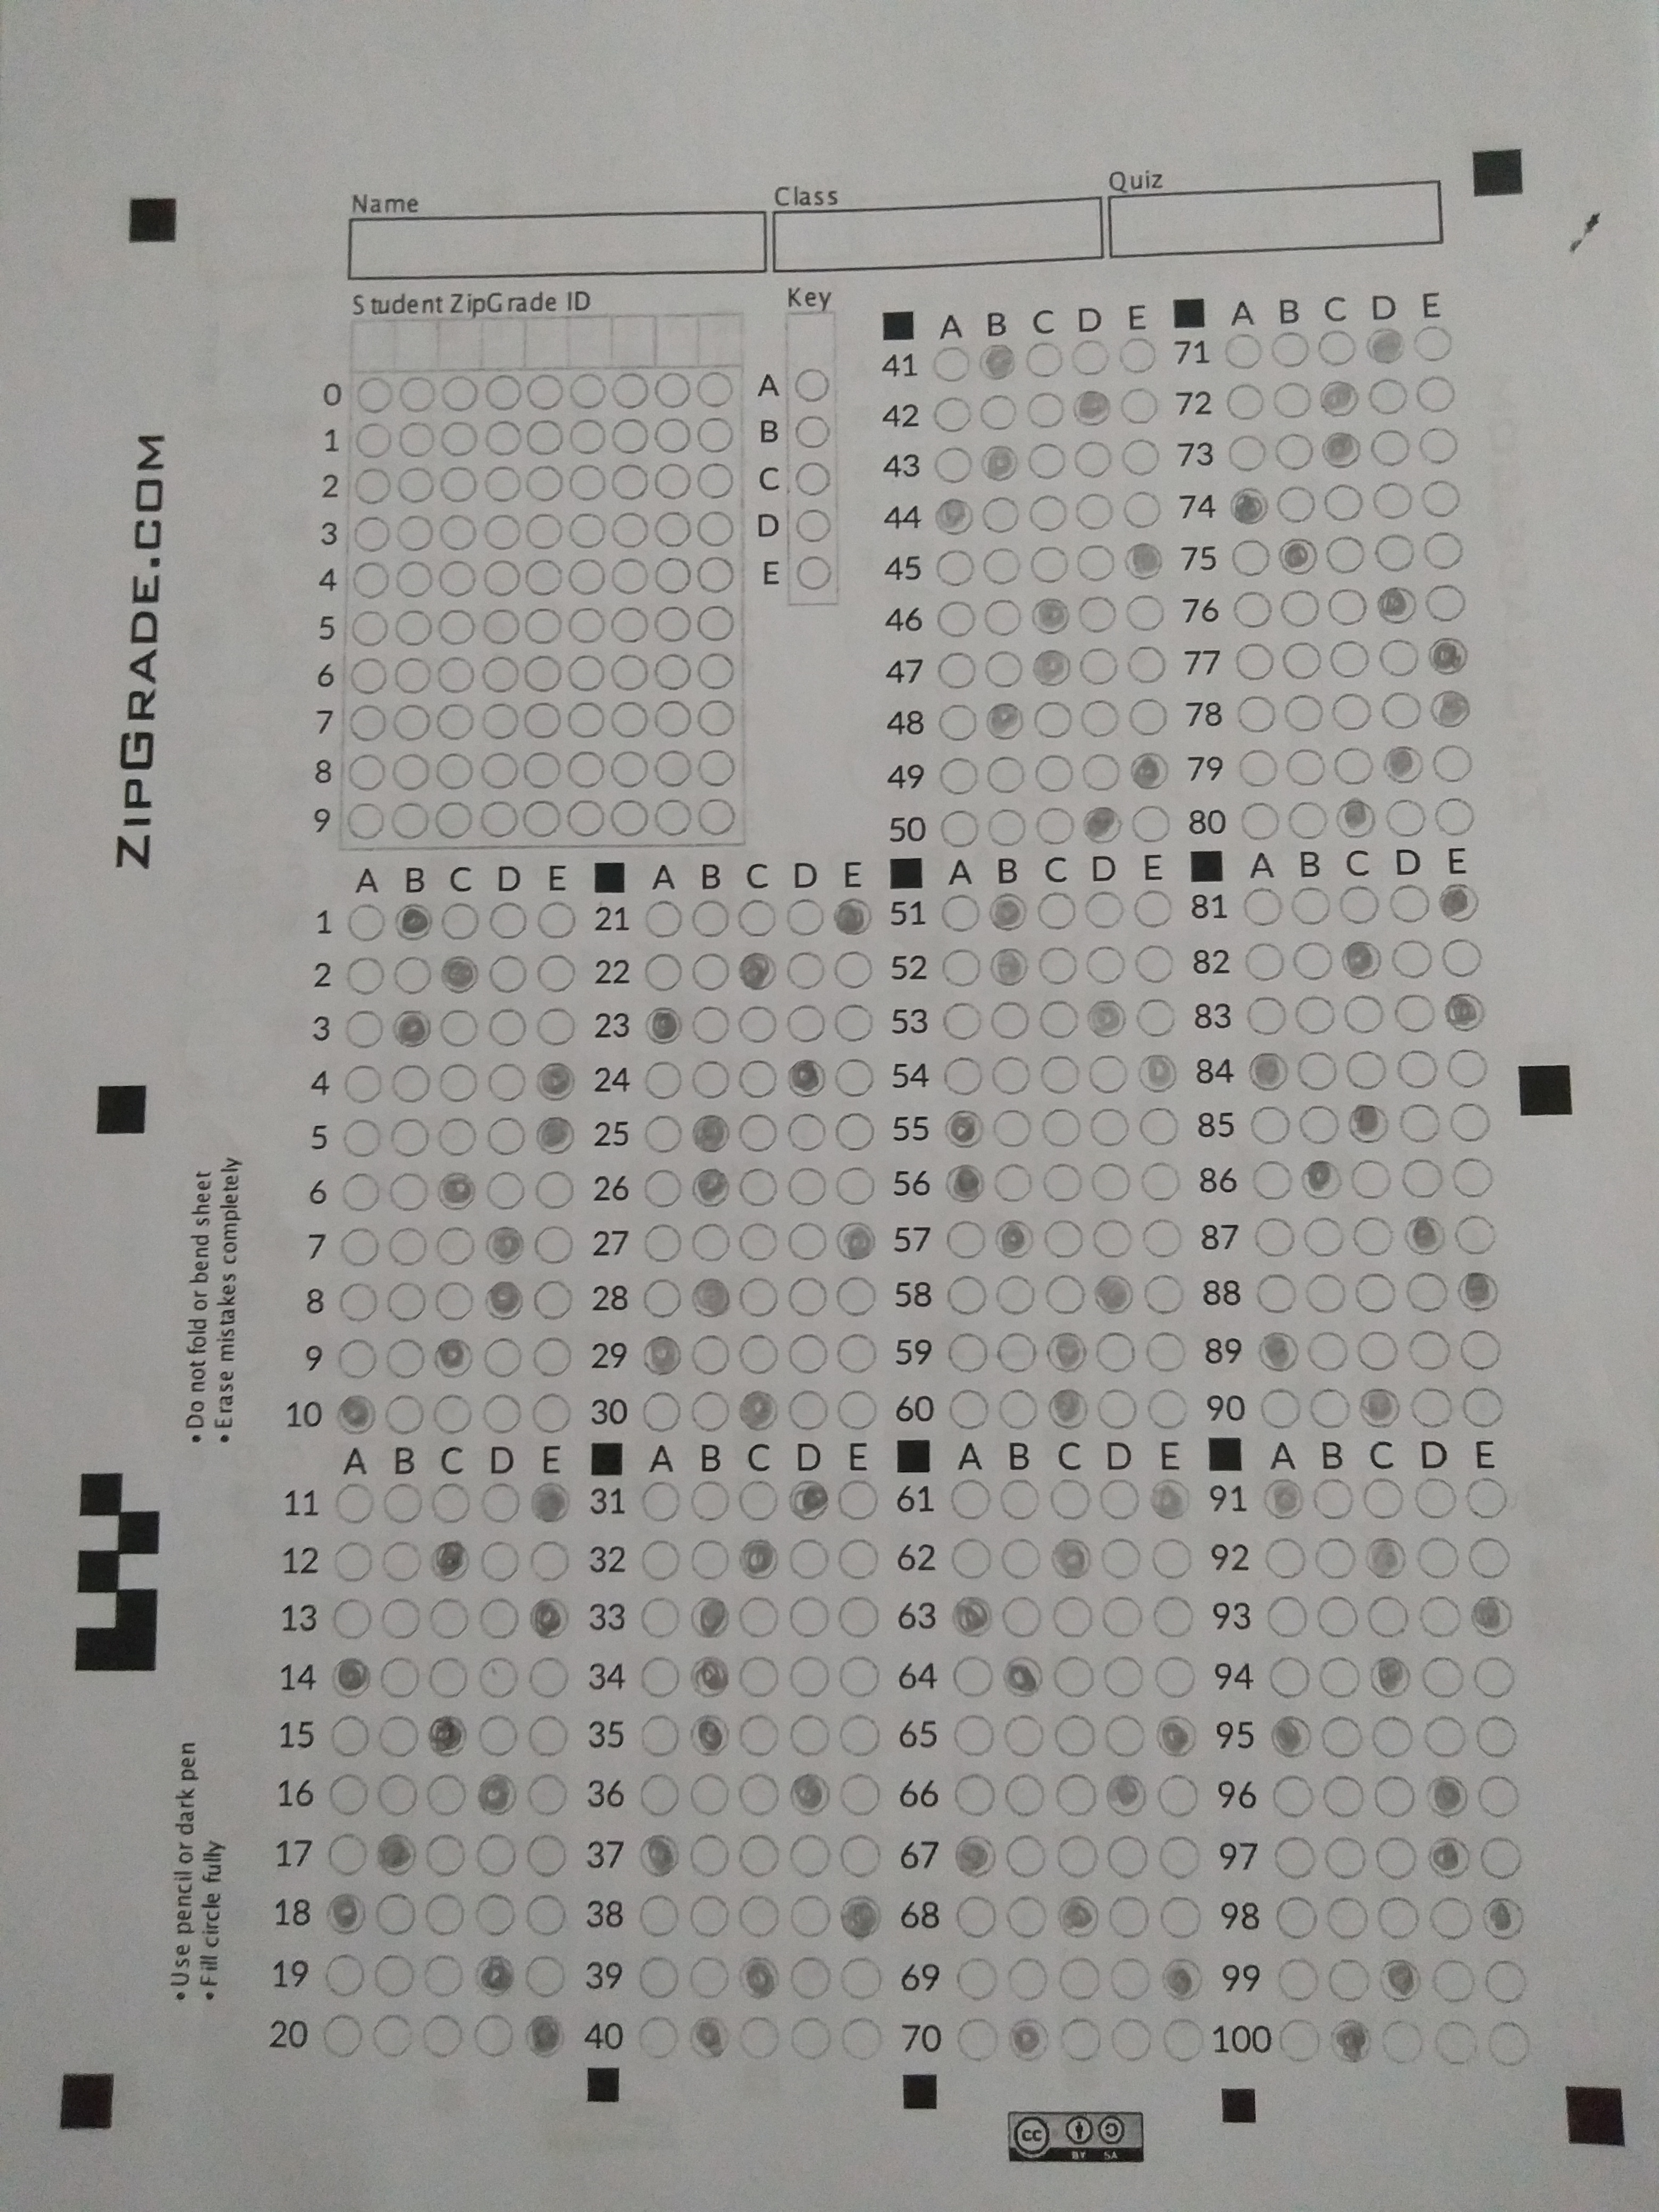not-c: (1471, 1829, 1532, 1886), (1269, 1825, 1323, 1886), (829, 1270, 885, 1324), (835, 2013, 889, 2069), (1459, 1381, 1511, 1439), (1415, 1585, 1467, 1642), (1398, 1264, 1452, 1318), (1093, 1527, 1147, 1581), (1319, 1831, 1373, 1885), (1072, 639, 1127, 691), (1284, 885, 1337, 939), (1338, 1043, 1391, 1097), (1450, 1204, 1502, 1258), (1300, 1266, 1352, 1320), (786, 1595, 838, 1649), (631, 1653, 685, 1705), (633, 1770, 687, 1822), (833, 1834, 887, 1886), (1270, 2015, 1324, 2067), (634, 1710, 690, 1761), (835, 1771, 890, 1822), (1154, 1890, 1209, 1940), (1464, 1533, 1520, 1583), (1359, 1470, 1408, 1527), (779, 948, 831, 1000), (1405, 1325, 1457, 1378), (375, 1475, 427, 1527), (950, 2013, 1002, 2066), (1255, 1534, 1307, 1587), (1432, 2015, 1485, 2067), (1429, 735, 1480, 789), (1438, 932, 1488, 986), (1445, 1153, 1499, 1204), (474, 1592, 525, 1646), (836, 1712, 887, 1766), (1474, 1770, 1528, 1820), (1373, 1831, 1424, 1885), (1267, 1892, 1321, 1942), (1279, 685, 1328, 740), (1371, 686, 1427, 735), (838, 1947, 887, 2003), (1471, 1653, 1520, 1709), (319, 2008, 368, 2064), (1136, 1268, 1188, 1318), (1094, 1385, 1145, 1437), (1351, 1271, 1403, 1322), (469, 2012, 519, 2064), (833, 1474, 885, 1524), (784, 1832, 836, 1883), (631, 1886, 681, 1939), (1155, 1770, 1206, 1822), (1002, 1832, 1054, 1883), (1419, 1651, 1469, 1703), (418, 2013, 469, 2066), (634, 1217, 688, 1266), (1134, 1101, 1183, 1155), (525, 1714, 573, 1768), (369, 1771, 423, 1820), (366, 2012, 415, 2066), (788, 2012, 836, 2066), (1051, 1766, 1100, 1820), (1054, 1829, 1103, 1883), (1460, 1470, 1514, 1519), (1488, 2017, 1537, 2071), (1457, 1320, 1504, 1376), (477, 1470, 525, 1526), (1058, 2012, 1103, 2069), (526, 1390, 577, 1440), (781, 1108, 831, 1158), (1086, 1157, 1136, 1207), (939, 1324, 990, 1374), (1234, 881, 1284, 932), (1392, 989, 1443, 1040), (526, 1534, 577, 1585), (732, 2010, 782, 2060), (999, 1952, 1049, 2003), (1429, 1958, 1480, 2008), (1481, 1956, 1532, 2006), (425, 1390, 474, 1442), (988, 1331, 1037, 1383), (427, 1588, 476, 1641), (523, 1890, 572, 1942), (685, 1892, 737, 1940), (948, 1707, 997, 1759), (1002, 1886, 1051, 1939), (1112, 385, 1166, 432), (1072, 538, 1119, 592), (939, 1216, 993, 1263), (1239, 1157, 1293, 1204), (472, 1827, 519, 1881), (1324, 1954, 1371, 2008), (1161, 2010, 1206, 2066), (1323, 1766, 1368, 1822), (831, 1054, 882, 1103), (784, 1329, 833, 1379), (929, 543, 979, 592), (1040, 1273, 1089, 1324), (1387, 939, 1438, 988), (1396, 1151, 1445, 1202), (521, 1829, 572, 1878), (1000, 1709, 1049, 1759), (1474, 1714, 1523, 1764), (1265, 1770, 1314, 1820), (831, 944, 878, 996), (1328, 688, 1375, 740), (1317, 1714, 1370, 1761), (329, 1339, 383, 1385), (1140, 1157, 1185, 1211), (1338, 881, 1384, 935), (521, 1653, 575, 1698), (690, 1831, 735, 1885), (735, 1832, 781, 1886), (789, 1893, 835, 1947), (1147, 1594, 1201, 1639), (378, 1588, 422, 1644), (606, 369, 655, 418), (434, 1059, 483, 1108), (1023, 540, 1072, 589), (418, 1890, 467, 1939), (634, 1534, 683, 1583), (732, 1592, 781, 1641), (1380, 2017, 1429, 2066), (476, 1390, 526, 1437), (1124, 942, 1175, 989), (1345, 1212, 1396, 1259), (788, 1536, 835, 1587), (786, 1712, 833, 1763), (634, 1952, 681, 2003), (1371, 1773, 1419, 1824), (1236, 941, 1288, 986), (1288, 935, 1333, 988), (1291, 989, 1337, 1042), (329, 1475, 375, 1527), (375, 1712, 420, 1764), (1310, 1474, 1356, 1526), (1413, 1474, 1459, 1526), (1312, 1531, 1358, 1583), (1371, 1712, 1417, 1764), (1417, 1716, 1469, 1761), (631, 1277, 685, 1320), (1093, 1325, 1136, 1379), (1445, 1043, 1488, 1097), (1445, 1101, 1499, 1144), (476, 1710, 519, 1764), (634, 1597, 688, 1641), (329, 1170, 385, 1212), (1239, 1104, 1295, 1146), (535, 897, 582, 946), (331, 1280, 380, 1327), (638, 895, 687, 942), (988, 1052, 1035, 1101), (943, 1273, 990, 1322), (1396, 1103, 1443, 1151), (1249, 1214, 1298, 1261), (1249, 1270, 1297, 1318), (416, 1952, 465, 2000), (638, 1479, 687, 1526), (688, 1534, 735, 1583), (1148, 1534, 1197, 1581), (1047, 1655, 1096, 1702), (950, 1771, 999, 1818), (1058, 1954, 1107, 2001), (1107, 1954, 1154, 2003), (1310, 1590, 1358, 1639), (1363, 1592, 1410, 1641), (1429, 1895, 1478, 1942), (1274, 1954, 1321, 2003), (432, 900, 483, 946), (532, 1223, 577, 1273), (530, 1277, 575, 1327), (782, 1270, 828, 1320), (833, 1332, 884, 1378), (932, 700, 983, 745), (1328, 636, 1373, 686), (1398, 1047, 1443, 1097), (329, 1540, 380, 1585), (471, 1892, 516, 1942), (835, 1655, 885, 1700), (1157, 1834, 1208, 1879), (328, 1770, 373, 1820), (383, 1278, 427, 1331), (1086, 1216, 1138, 1259), (946, 1653, 999, 1696), (1112, 2015, 1155, 2067), (739, 1472, 781, 1526), (1378, 798, 1434, 838), (1310, 1381, 1351, 1437), (340, 954, 387, 1001), (484, 953, 532, 1000), (1021, 334, 1068, 381), (1075, 491, 1122, 538), (993, 1275, 1040, 1322), (1241, 993, 1288, 1040), (322, 1951, 369, 1998), (737, 1893, 784, 1940), (1047, 1475, 1094, 1522), (1047, 1592, 1094, 1639), (1103, 1712, 1150, 1759), (1053, 1712, 1100, 1759), (685, 1331, 734, 1376), (1126, 587, 1171, 636), (1425, 580, 1474, 625), (1131, 887, 1176, 935), (1338, 991, 1387, 1036), (328, 1714, 373, 1763), (321, 1832, 369, 1878), (836, 1536, 882, 1585), (737, 1771, 782, 1820), (997, 1534, 1046, 1580), (1105, 1892, 1150, 1940), (957, 1952, 1002, 2001), (1323, 1892, 1371, 1937), (695, 507, 739, 557), (535, 1163, 579, 1214), (430, 1226, 481, 1270), (1269, 486, 1319, 529), (1225, 536, 1276, 580), (1229, 693, 1279, 737), (938, 1000, 988, 1043), (988, 1163, 1039, 1207), (1290, 1047, 1340, 1090), (1290, 1103, 1340, 1146), (523, 1773, 573, 1817), (688, 1477, 732, 1527), (789, 1655, 833, 1705), (945, 1536, 995, 1580), (1101, 1651, 1145, 1702), (1373, 1897, 1424, 1940), (690, 1388, 732, 1440), (1082, 1106, 1134, 1148), (1108, 1834, 1150, 1886), (476, 603, 521, 650), (692, 599, 739, 644), (342, 1008, 387, 1055), (342, 1062, 387, 1109), (481, 1113, 526, 1160), (833, 1163, 878, 1211), (735, 1275, 782, 1320), (786, 1388, 831, 1435), (1115, 437, 1161, 484), (983, 752, 1028, 799), (1370, 425, 1417, 470), (1319, 484, 1366, 529), (936, 946, 983, 991), (1077, 941, 1122, 988), (1140, 1217, 1185, 1264), (476, 1655, 521, 1702), (371, 1952, 416, 2000), (737, 1712, 784, 1757), (1098, 1479, 1143, 1526), (1415, 1534, 1462, 1580), (1317, 1655, 1363, 1702), (519, 371, 568, 415), (389, 1111, 432, 1160), (737, 1327, 781, 1376), (638, 1390, 681, 1439), (835, 1390, 884, 1433), (925, 390, 974, 434), (936, 892, 985, 935), (1255, 1386, 1303, 1430), (331, 1594, 375, 1642), (376, 1653, 420, 1702), (789, 1956, 833, 2005), (638, 2015, 681, 2064), (999, 1592, 1042, 1641), (1004, 1770, 1047, 1818), (336, 902, 387, 944), (390, 1059, 432, 1109), (690, 894, 732, 944), (732, 897, 782, 939), (784, 1162, 826, 1212), (1272, 376, 1314, 427), (1328, 745, 1378, 787), (481, 648, 521, 700), (739, 1216, 779, 1268), (648, 794, 694, 840), (385, 1338, 430, 1383), (1415, 371, 1460, 416), (1424, 528, 1469, 573), (1232, 637, 1277, 683), (1283, 637, 1328, 683), (1434, 794, 1480, 840), (1033, 888, 1079, 934), (1040, 1217, 1086, 1263), (1300, 1216, 1345, 1261), (1356, 1325, 1401, 1371), (375, 1892, 420, 1937), (688, 1771, 734, 1817), (648, 462, 695, 505), (340, 751, 387, 794), (687, 949, 734, 993), (835, 1108, 878, 1155), (1117, 334, 1161, 381), (1026, 437, 1073, 481), (936, 650, 983, 693), (1030, 698, 1077, 742), (981, 806, 1028, 850), (1035, 944, 1079, 991), (936, 1052, 983, 1096), (1345, 1158, 1392, 1202), (1305, 1327, 1352, 1371), (526, 1956, 570, 2003), (838, 1592, 882, 1639), (687, 1954, 730, 2001), (537, 953, 579, 1001), (389, 1167, 430, 1216), (638, 1167, 687, 1209), (1363, 376, 1412, 418), (1133, 998, 1182, 1040), (1145, 1327, 1187, 1376), (376, 1393, 427, 1433), (786, 1217, 826, 1268), (1220, 434, 1270, 474), (1263, 1658, 1314, 1698), (436, 416, 479, 462), (434, 606, 477, 651), (565, 648, 610, 691), (648, 651, 694, 695), (519, 794, 565, 838), (484, 1059, 528, 1104), (532, 1334, 575, 1379), (782, 894, 828, 937), (1070, 336, 1115, 380), (1023, 493, 1068, 536), (1033, 752, 1079, 796), (1131, 805, 1176, 848), (1270, 430, 1316, 474), (1419, 477, 1464, 521), (1279, 585, 1323, 631), (1087, 1052, 1133, 1096), (943, 1388, 988, 1432), (429, 1480, 472, 1526), (423, 1773, 467, 1818), (423, 1831, 469, 1874), (1101, 1592, 1147, 1635), (1150, 1656, 1195, 1700), (1263, 1595, 1309, 1639), (525, 507, 566, 554), (437, 651, 479, 698), (389, 798, 430, 845), (336, 1115, 383, 1157), (688, 1003, 735, 1045), (1316, 324, 1358, 371), (1415, 427, 1462, 469), (1236, 745, 1283, 787), (950, 1479, 992, 1526), (955, 1892, 997, 1939), (434, 794, 474, 843), (1237, 801, 1286, 841), (608, 604, 652, 648), (432, 749, 476, 792), (934, 597, 978, 641), (1127, 646, 1171, 690), (1033, 806, 1077, 850), (1371, 482, 1415, 526), (1323, 531, 1366, 575), (990, 1106, 1033, 1150), (427, 1656, 471, 1700), (737, 1653, 781, 1696), (997, 1479, 1040, 1522), (565, 554, 606, 599), (523, 603, 565, 648), (532, 1007, 577, 1049), (434, 1115, 479, 1157), (335, 1226, 380, 1268), (436, 1275, 477, 1320), (641, 1061, 687, 1103), (1073, 435, 1115, 481), (1122, 491, 1164, 536), (1077, 594, 1122, 636), (936, 756, 981, 798), (936, 810, 981, 852), (1412, 324, 1457, 366), (1377, 639, 1422, 681), (988, 1000, 1033, 1042), (1039, 1000, 1080, 1045), (1147, 1386, 1188, 1432), (1389, 881, 1431, 927), (396, 376, 443, 416), (566, 601, 606, 648), (481, 1338, 528, 1378), (981, 491, 1021, 538), (345, 563, 394, 601), (694, 1217, 732, 1266), (483, 371, 526, 413), (566, 509, 610, 550), (349, 606, 390, 650), (347, 799, 389, 843), (566, 745, 608, 789), (484, 1169, 528, 1211), (640, 953, 683, 995), (782, 1003, 826, 1045), (833, 1001, 877, 1043), (1220, 329, 1262, 373), (1286, 747, 1330, 789), (1290, 799, 1331, 843), (1412, 1386, 1453, 1430), (382, 1541, 425, 1583), (652, 510, 692, 556), (394, 559, 434, 604), (735, 1165, 775, 1211), (983, 540, 1023, 585), (1373, 531, 1419, 571), (1328, 585, 1368, 631), (1042, 1163, 1087, 1204), (432, 559, 479, 597), (390, 749, 429, 796), (699, 744, 737, 791), (695, 792, 734, 840), (1227, 590, 1274, 629), (354, 374, 396, 416), (566, 369, 608, 411), (523, 462, 565, 503), (566, 796, 608, 838), (606, 700, 648, 742), (652, 745, 694, 787), (737, 1003, 779, 1045), (931, 444, 972, 486), (1080, 751, 1122, 792), (1039, 1054, 1080, 1096), (484, 420, 525, 463), (523, 559, 563, 603), (521, 747, 565, 787), (387, 1224, 427, 1268), (692, 1061, 732, 1104), (1023, 390, 1066, 430), (983, 651, 1026, 691), (1079, 700, 1122, 740), (1124, 698, 1168, 738), (566, 416, 612, 455), (343, 704, 389, 742), (610, 556, 650, 597), (479, 798, 519, 840), (521, 700, 563, 740), (608, 747, 650, 787), (486, 900, 528, 941), (392, 951, 432, 993), (978, 390, 1019, 430), (981, 596, 1021, 637), (995, 1386, 1037, 1426), (793, 458, 835, 498), (697, 369, 735, 413), (355, 420, 394, 463), (697, 415, 735, 458), (350, 655, 389, 698), (697, 650, 735, 693), (436, 700, 474, 744), (737, 1113, 781, 1151), (1039, 1109, 1082, 1148), (612, 648, 648, 693), (568, 463, 608, 503), (352, 514, 392, 554), (653, 698, 694, 738), (437, 1007, 477, 1047), (1082, 892, 1122, 932), (655, 416, 694, 458), (441, 512, 479, 554), (612, 512, 650, 554), (394, 608, 432, 650), (490, 1005, 528, 1047), (934, 341, 972, 383), (481, 1541, 519, 1583), (695, 463, 739, 500), (396, 655, 432, 698), (392, 702, 429, 745), (612, 463, 650, 503), (481, 559, 521, 597), (523, 655, 563, 693), (479, 751, 519, 789), (612, 796, 650, 836), (739, 1061, 779, 1099), (655, 371, 692, 413), (352, 469, 394, 505), (1270, 327, 1307, 369), (695, 557, 734, 596), (481, 702, 519, 740), (699, 698, 737, 737), (1227, 383, 1265, 421), (795, 554, 833, 592), (443, 376, 479, 416), (565, 700, 605, 737), (791, 366, 831, 402), (793, 413, 833, 449), (525, 420, 566, 455), (399, 465, 434, 507), (399, 420, 436, 458), (484, 467, 521, 505), (652, 557, 690, 594), (645, 1116, 683, 1153), (441, 465, 476, 505), (795, 509, 835, 543), (655, 606, 692, 643), (397, 516, 436, 550), (484, 514, 523, 549), (612, 418, 652, 451)
taken-c: (836, 1892, 884, 1942), (997, 1651, 1047, 1698), (1006, 2015, 1053, 2066), (1424, 1834, 1473, 1881), (1424, 1773, 1471, 1822), (1103, 1771, 1152, 1818), (685, 1594, 735, 1639), (526, 1479, 573, 1526), (474, 1770, 521, 1817), (687, 1653, 734, 1700), (1455, 1268, 1502, 1315), (1377, 1958, 1424, 2005), (1147, 1475, 1194, 1522), (373, 1831, 418, 1879), (939, 1106, 988, 1151), (1436, 881, 1485, 927), (1328, 2015, 1373, 2064), (1154, 1714, 1202, 1759), (688, 2012, 730, 2064), (526, 1595, 573, 1641), (472, 1952, 519, 1998), (737, 1956, 782, 2003), (636, 1832, 681, 1879), (788, 1771, 833, 1818), (1269, 1712, 1314, 1759), (1469, 1592, 1516, 1637), (950, 1595, 995, 1642), (329, 1655, 375, 1700), (688, 1277, 734, 1322), (1044, 1329, 1089, 1374), (1356, 1383, 1401, 1428), (1368, 1655, 1413, 1700), (1054, 1895, 1100, 1940), (1159, 1956, 1204, 2001), (1338, 939, 1385, 982), (1483, 1895, 1527, 1942), (1049, 1534, 1093, 1581), (1337, 794, 1380, 841), (1255, 1331, 1303, 1372), (951, 1836, 1000, 1878), (1317, 428, 1366, 470), (390, 1005, 436, 1049), (335, 1392, 378, 1437), (429, 1540, 472, 1585), (523, 2012, 566, 2057), (688, 1712, 734, 1756), (786, 1477, 831, 1521), (992, 1217, 1037, 1261), (1403, 1214, 1448, 1258), (978, 441, 1023, 484), (1225, 484, 1270, 528), (1380, 740, 1424, 786), (535, 1111, 577, 1158), (737, 1536, 779, 1583), (1044, 1390, 1091, 1432), (1425, 634, 1473, 676), (535, 1059, 579, 1103), (324, 1893, 368, 1937), (688, 1167, 732, 1211), (986, 944, 1030, 988), (1260, 1477, 1303, 1521), (1030, 594, 1073, 637), (1080, 803, 1124, 846), (1319, 376, 1363, 420), (1429, 686, 1473, 730), (439, 953, 481, 998), (483, 1223, 525, 1268), (481, 1280, 526, 1322), (1134, 1052, 1180, 1094), (943, 1163, 988, 1205), (1443, 991, 1488, 1033), (983, 700, 1028, 742), (429, 1714, 469, 1761), (1243, 1054, 1291, 1092), (434, 1170, 477, 1212), (640, 1336, 683, 1378), (836, 1219, 880, 1261), (831, 895, 875, 937), (1086, 996, 1127, 1040), (1091, 1275, 1134, 1317), (1347, 1103, 1391, 1144), (1364, 1536, 1406, 1580), (1364, 326, 1408, 368), (1377, 583, 1419, 627), (739, 1386, 779, 1432), (1126, 752, 1173, 791), (737, 951, 779, 993), (986, 890, 1028, 932), (1302, 1158, 1344, 1200), (690, 1113, 734, 1153), (1068, 388, 1114, 427), (1121, 542, 1166, 580), (394, 900, 436, 941), (434, 1336, 474, 1378), (643, 1005, 685, 1045), (1030, 648, 1072, 688), (1279, 535, 1319, 577), (786, 1059, 826, 1099), (934, 496, 974, 536), (978, 345, 1018, 381)
